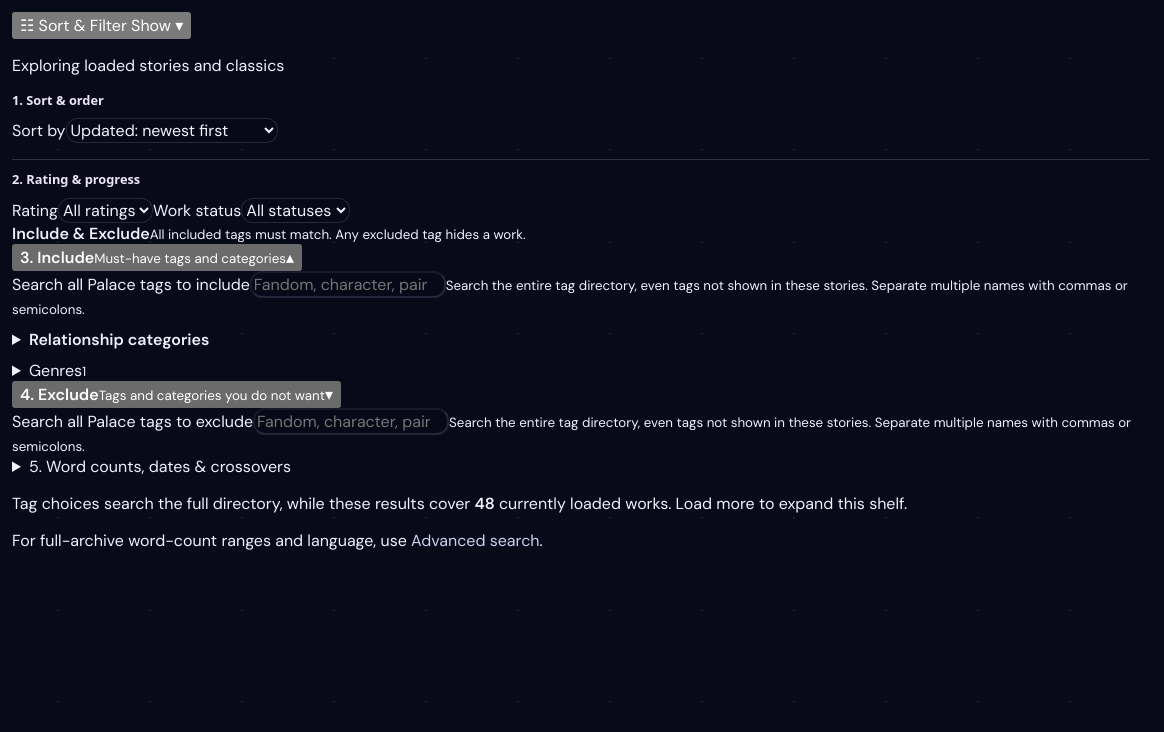
hides Tropes and every later category from the default Include and Exclude lists
The width and height of the screenshot is (1164, 732).
What coordinates should you click on to do the following:
click the button with aria-label "Open Sort & Filter"
I would click on:
 (102, 26)
Its box is 12,12 -> 191,39.
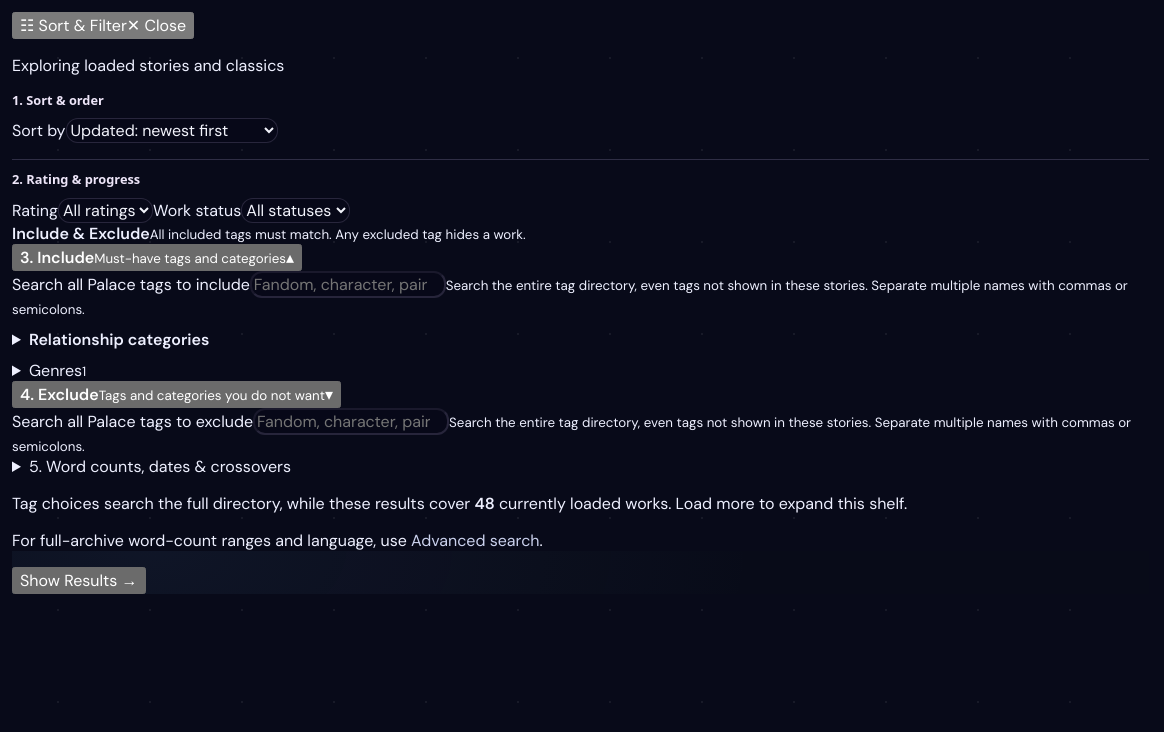
Expected: the text "Genres" is shown, 29,360 -> 82,381
What coordinates should you click on to do the following:
click the button "4. ExcludeTags and categories you do not want▾"
I would click on:
 (176, 395)
Its box is 12,381 -> 341,408.
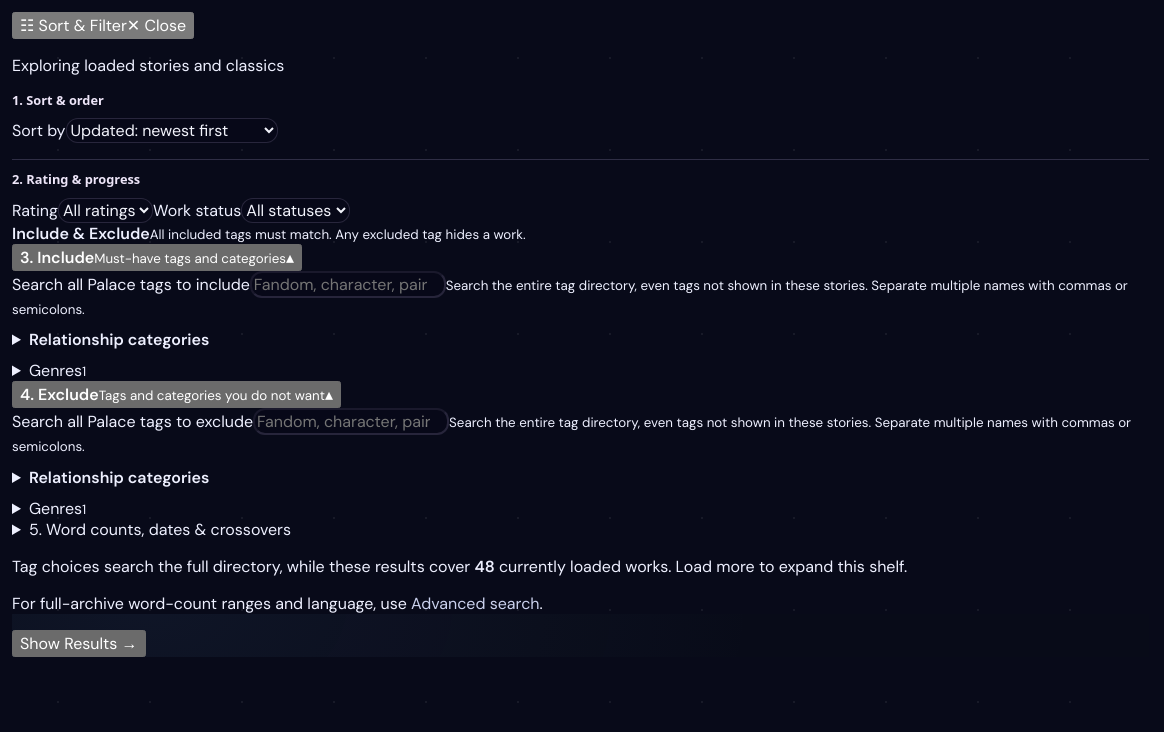
Now the text "Genres" is shown 2 times, box 29,360 -> 82,381; 29,498 -> 82,519
